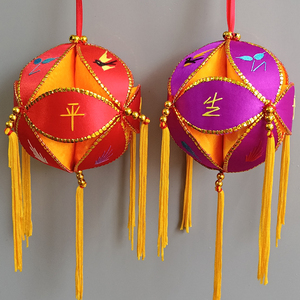xiuqiu: (6, 34, 149, 187), (161, 26, 296, 183)
